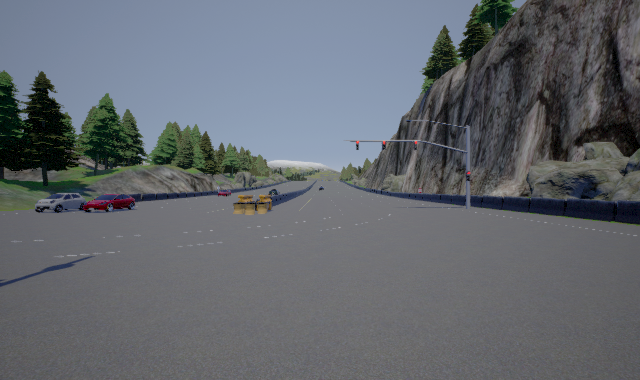traffic_light: (466, 171, 470, 181), (382, 141, 386, 150), (414, 141, 417, 150), (356, 141, 359, 150)
vehicle: (85, 191, 135, 213), (35, 193, 87, 212), (217, 188, 230, 199)
